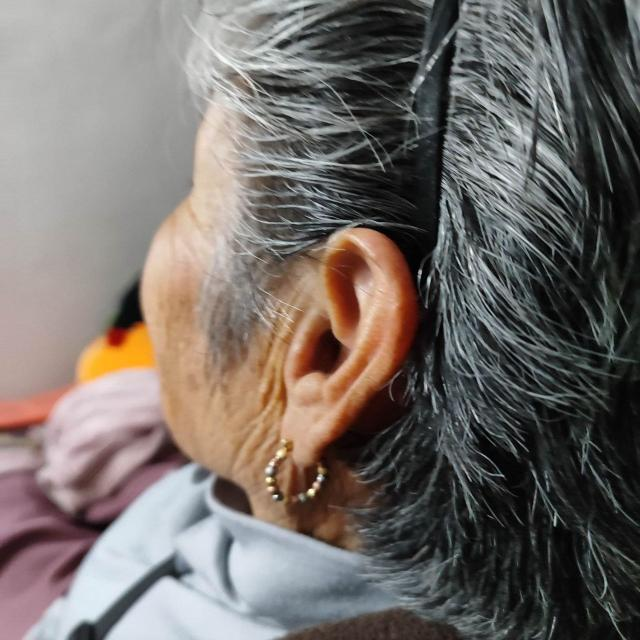ear: (282, 229, 419, 465)
